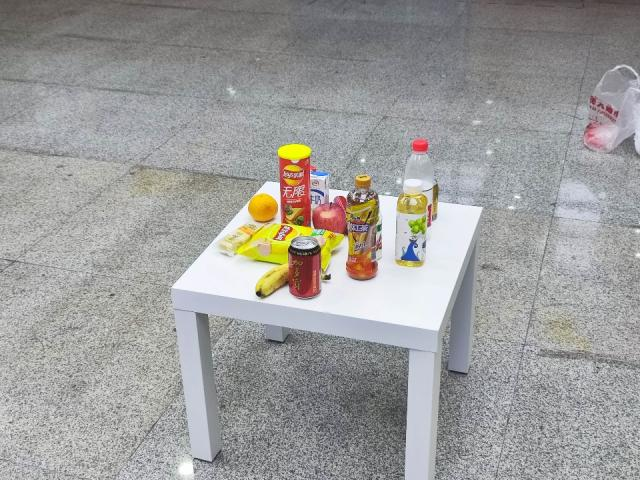Canned_drinks: (288, 234, 321, 295)
cylinder: (276, 145, 309, 227)
